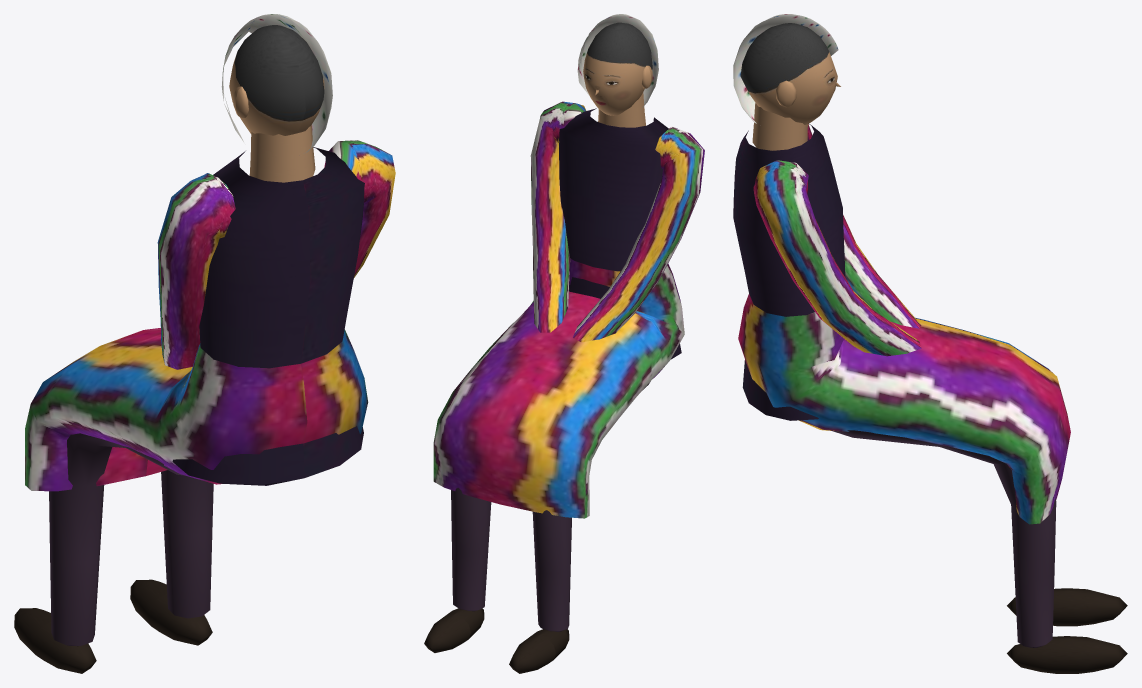
Rendered from grandma.glb.
The picture shows the model from 3 angles, left to right: view 1: azimuth 30°, elevation 25°; view 2: azimuth 150°, elevation 25°; view 3: azimuth 270°, elevation 25°; orthographic projection. The views are drawn at different scales.
Visible parts, largest first — view 1: Body, HeadMesh; view 2: Body, HeadMesh; view 3: Body, HeadMesh.
Boxes of the visible parts, x1=… form: Body: x1=14, y1=125, x2=395, y2=673; HeadMesh: x1=221, y1=14, x2=332, y2=155; Body: x1=424, y1=92, x2=704, y2=673; HeadMesh: x1=577, y1=14, x2=658, y2=115; Body: x1=733, y1=103, x2=1127, y2=673; HeadMesh: x1=733, y1=14, x2=840, y2=124.
Size of the model in its own units: 0.4107 by 1.3 by 0.7362.
Materials: 1 (1 with a texture image).
